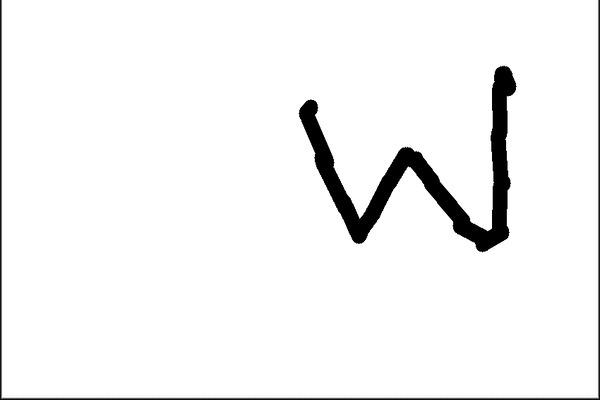w: (268, 56, 538, 272)
